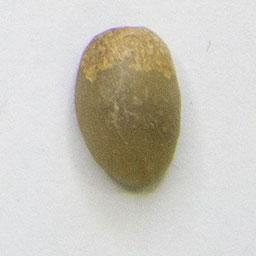longberry: (70, 20, 185, 194)
